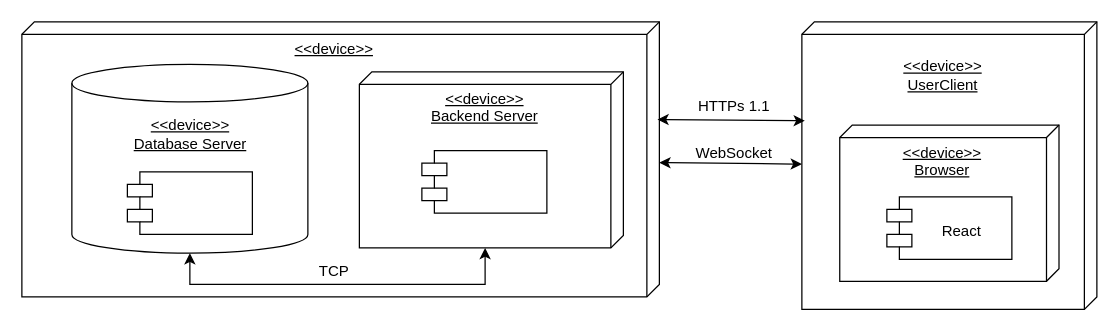
Image size: 1119x331. Some labels were removed from this diagram. The shapes that lost their labels are listed below. From the top down, each one's centre as x and y in pixels, then its label:
At point (484, 181): "Mongoose".
At point (189, 202): "MongoDB".
